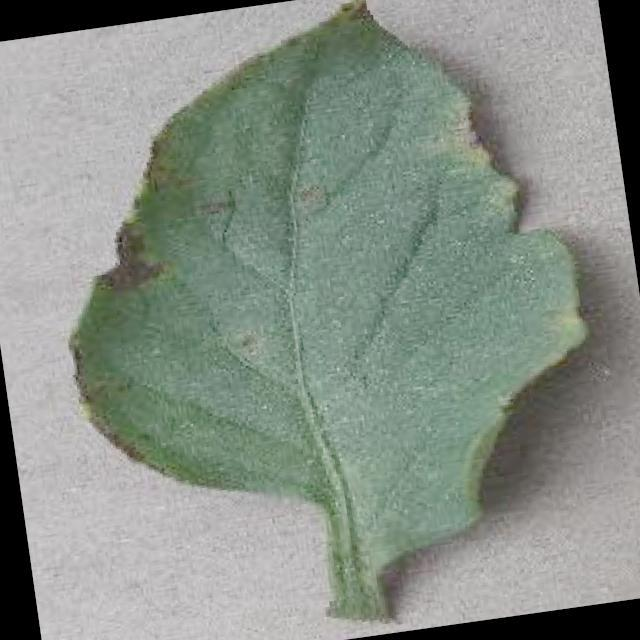Tomato bacterial spot leaf: (14, 0, 635, 640)
